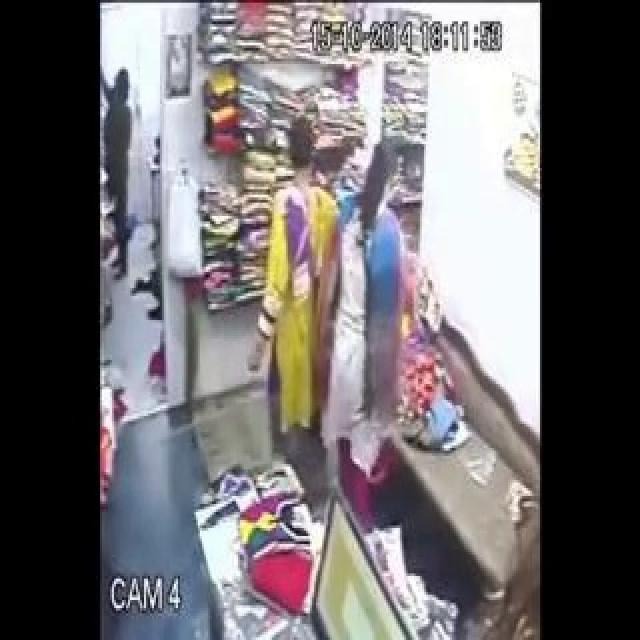Shoplifting: (321, 113, 417, 468)
